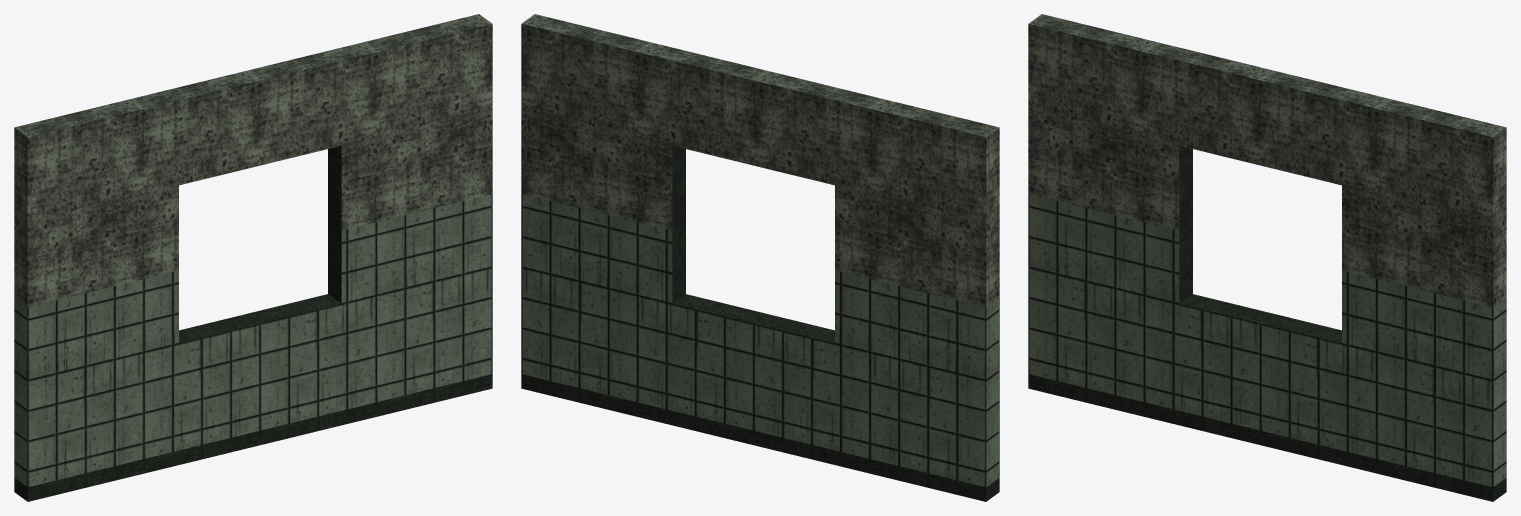
File: SM_Wall_Window_4m.fbx
The picture shows the model from 3 angles, left to right: view 1: azimuth 30°, elevation 25°; view 2: azimuth 150°, elevation 25°; view 3: azimuth 330°, elevation 25°; orthographic projection.
Visible parts, largest first — view 1: SM_Wall_Window_4m; view 2: SM_Wall_Window_4m; view 3: SM_Wall_Window_4m.
Part boxes in pixels (box(x1,y1,x2,y2)): SM_Wall_Window_4m: box(14, 14, 492, 501); SM_Wall_Window_4m: box(521, 14, 999, 501); SM_Wall_Window_4m: box(1028, 14, 1506, 501).
Size of the model in its own units: 4 by 3 by 0.2.
